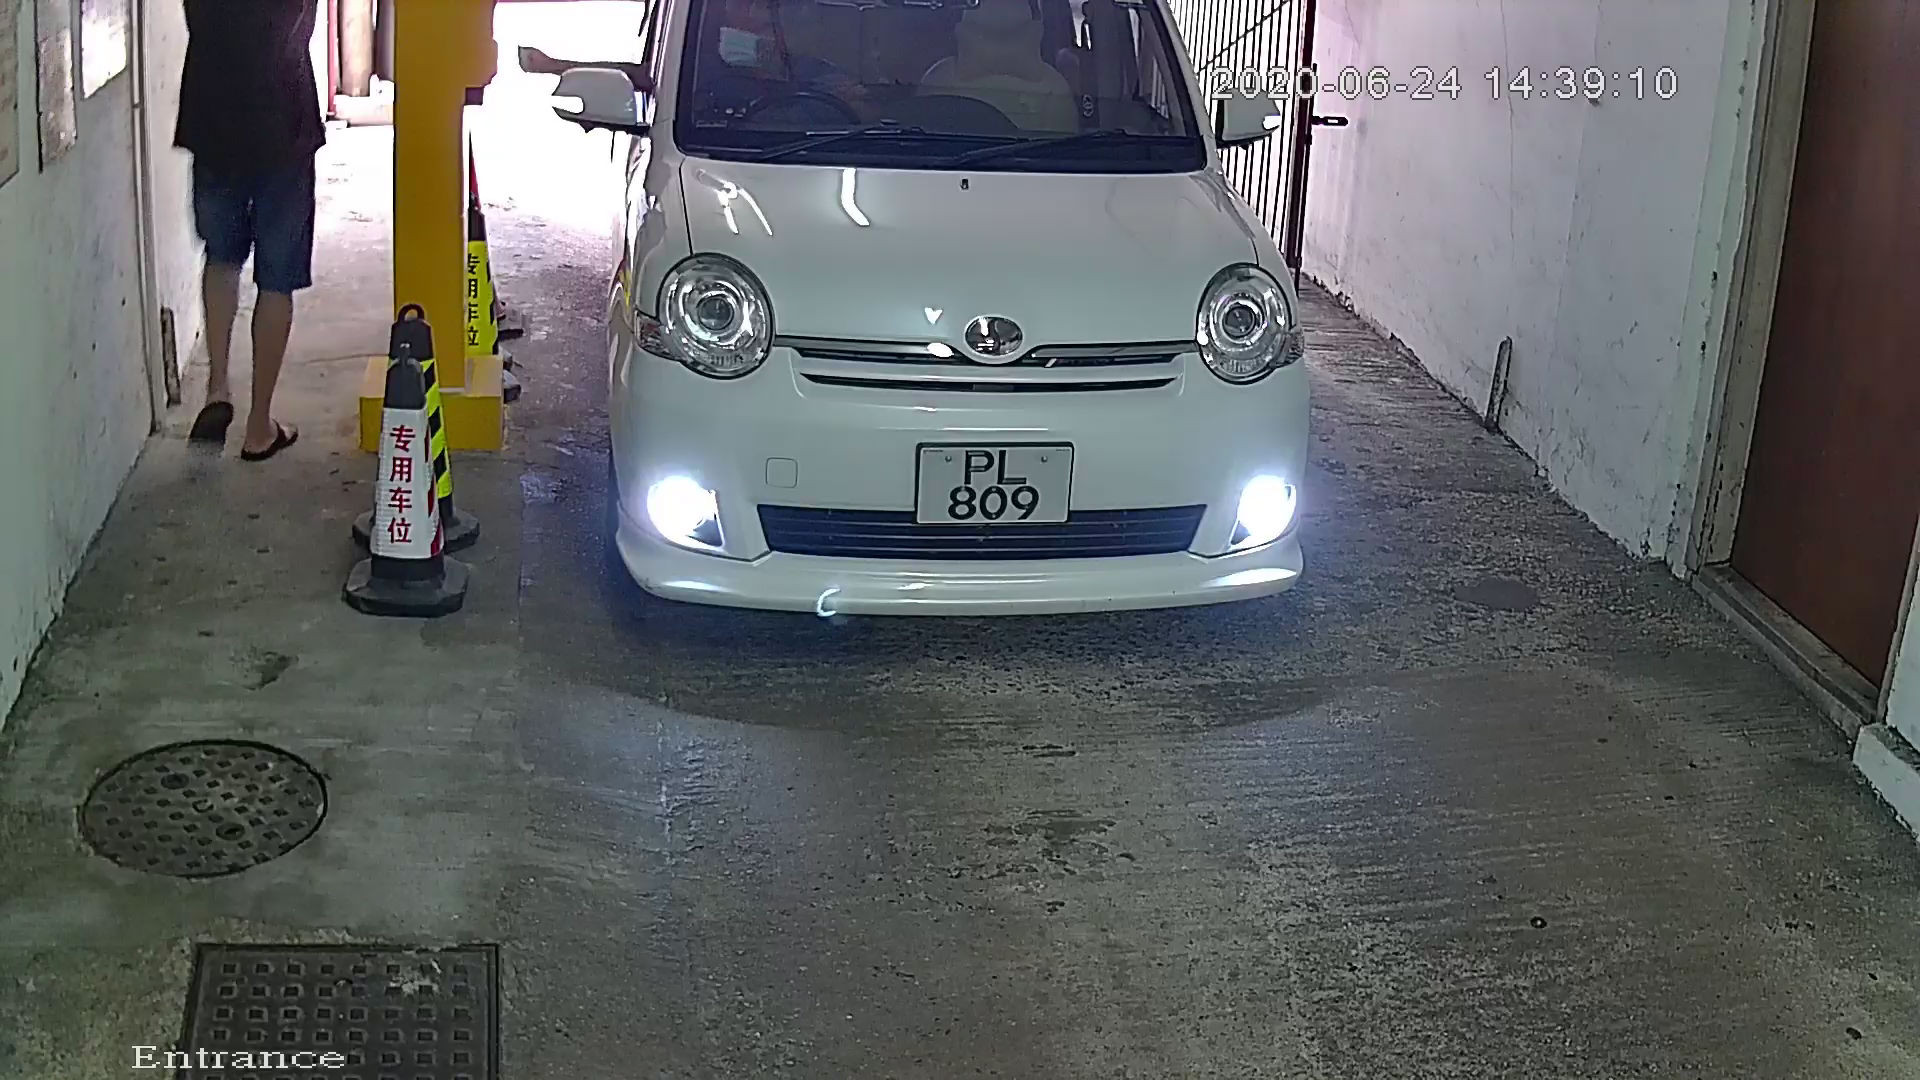Car: (502, 1, 1378, 650)
License Plate: (896, 425, 1096, 542)
